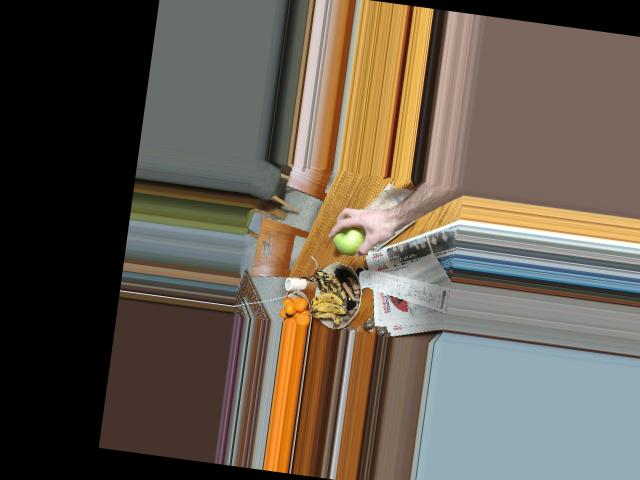apple: (327, 218, 369, 257)
